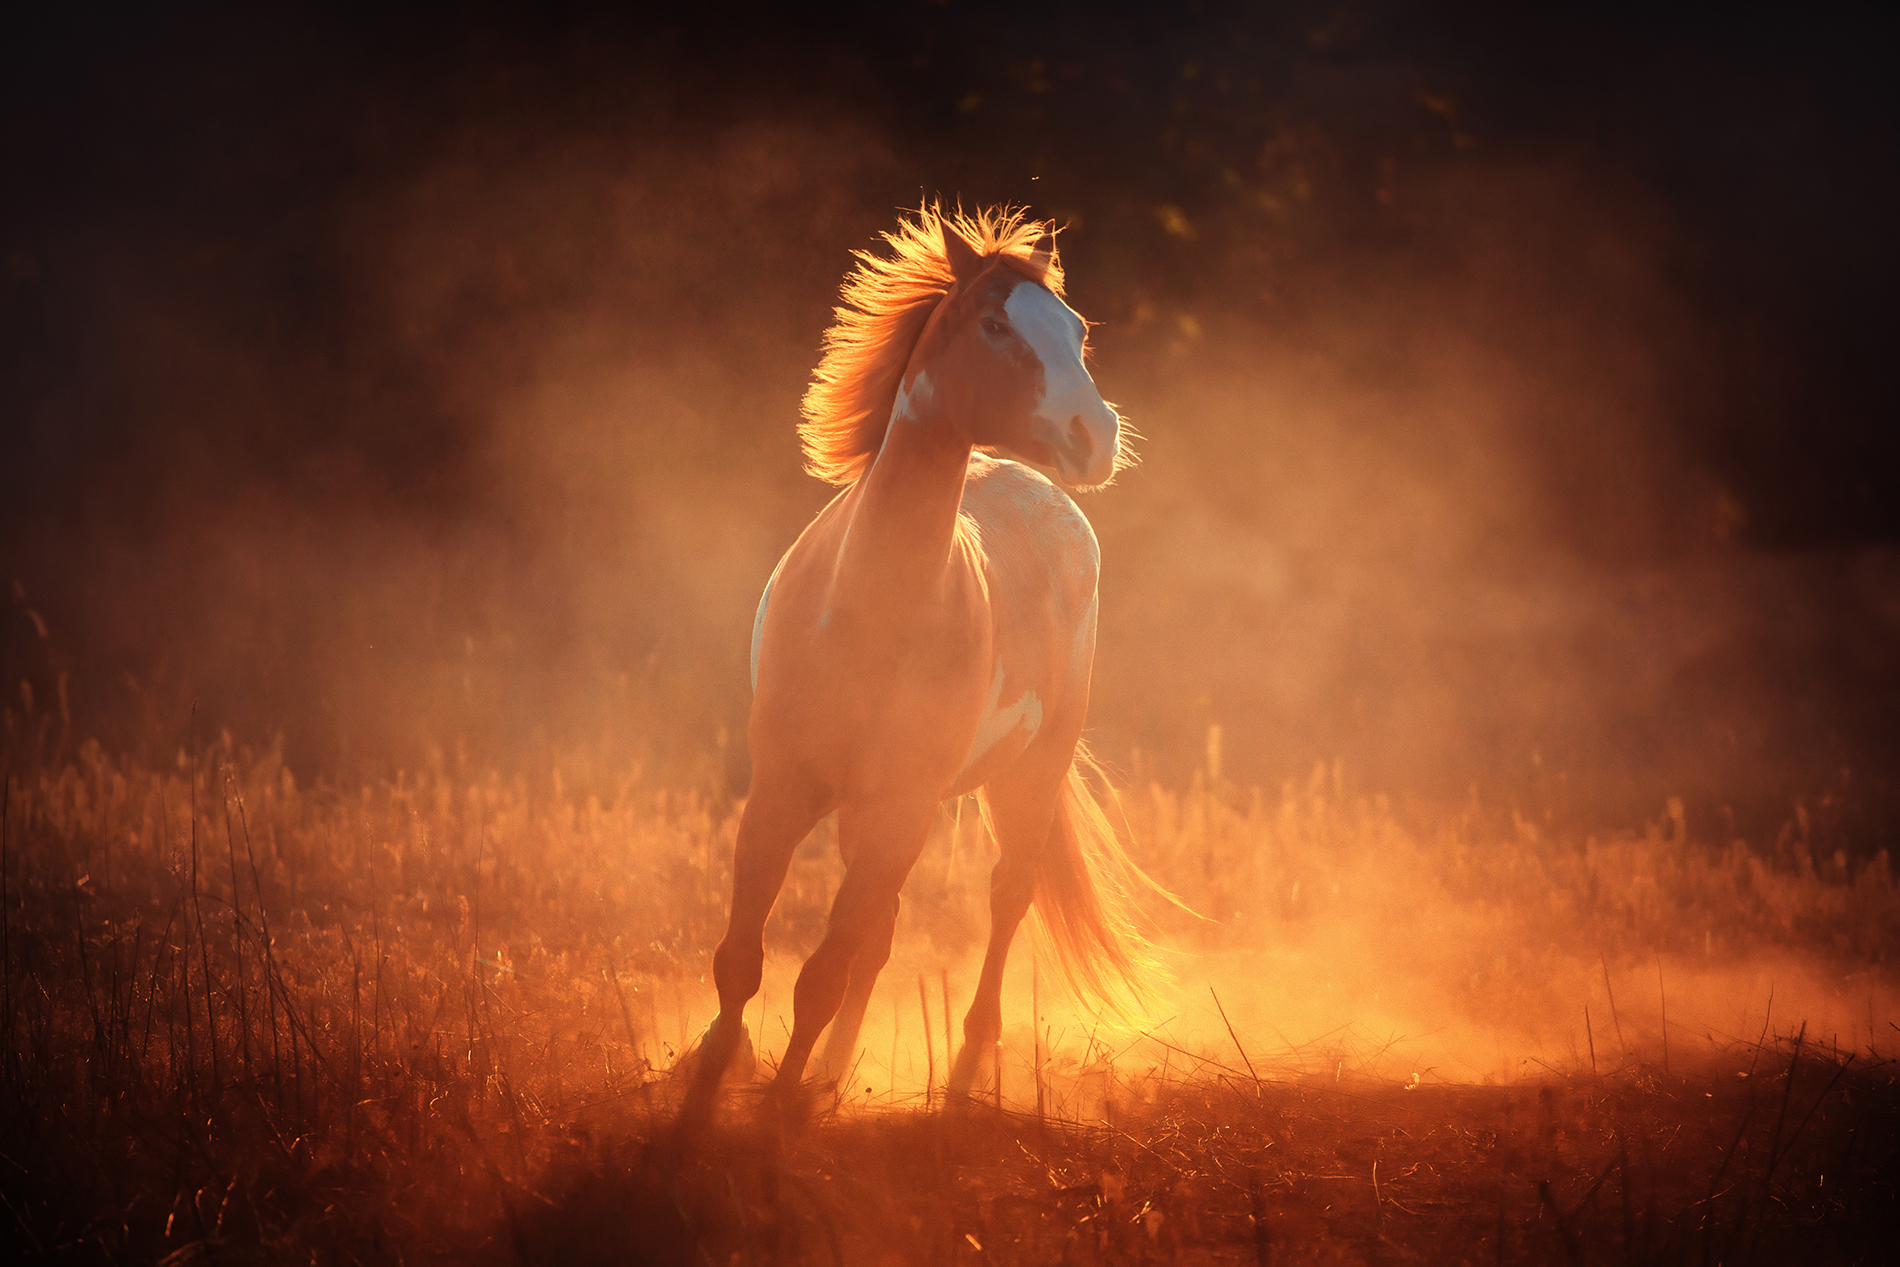horse: (640, 192, 1197, 1172)
